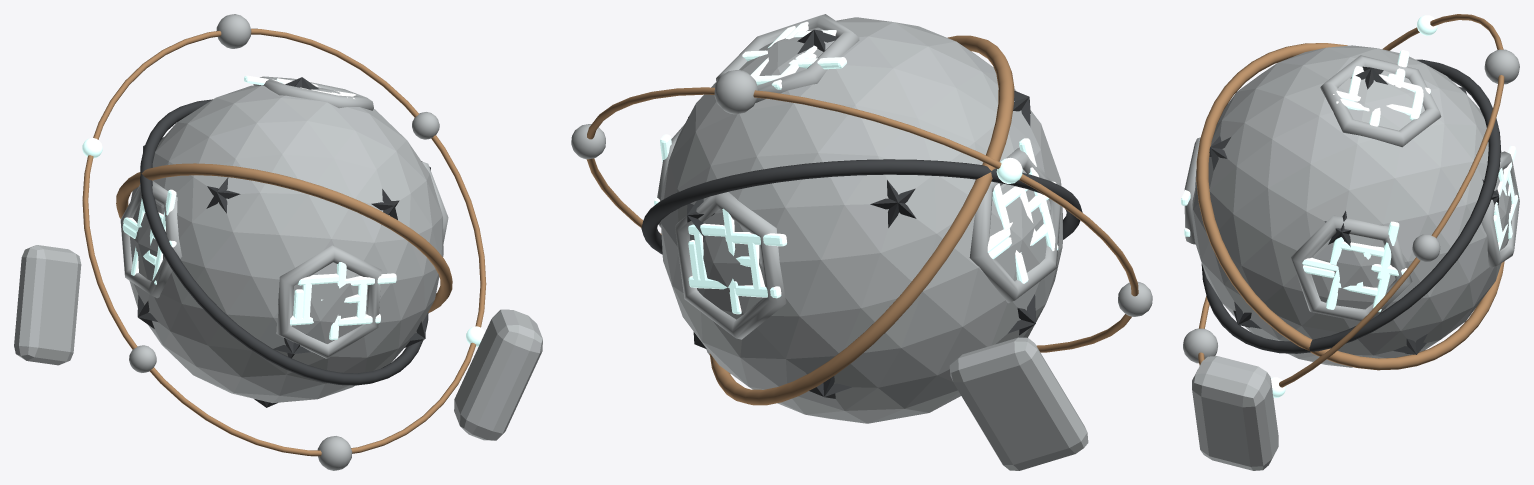
File: paneled-core.glb
3 renders of one model, left to right at view 1: azimuth 30°, elevation 25°; view 2: azimuth 150°, elevation 25°; view 3: azimuth 270°, elevation 25°, orthographic. The views are drawn at different scales.
Parts seen in each view (by area): view 1: Panel_Core, Panel_OrbitRail, Panel_Pod_A, Panel_Pod_B, Panel_StructuralBand_A, Panel_StructuralBand_B, Panel_3_PortFrame, Panel_1_PortFrame, Panel_FrameShell, Panel_4_PortFrame, Panel_Satellite_05, Panel_Satellite_02 (+2 smaller); view 2: Panel_Core, Panel_Pod_B, Panel_StructuralBand_B, Panel_StructuralBand_A, Panel_OrbitRail, Panel_2_PortFrame, Panel_1_PortFrame, Panel_FrameShell, Panel_4_PortFrame, Panel_Satellite_02, Panel_Satellite_04, Panel_Satellite_01 (+1 smaller); view 3: Panel_Core, Panel_Pod_A, Panel_StructuralBand_B, Panel_StructuralBand_A, Panel_0_PortFrame, Panel_4_PortFrame, Panel_OrbitRail, Panel_FrameShell, Panel_2_PortFrame, Panel_Satellite_02, Panel_Satellite_05, Panel_3_PortFrame (+3 smaller).
Boxes of the visible parts, x1,y1,x2,y2 form: Panel_Core: [129, 85, 443, 403]; Panel_OrbitRail: [82, 28, 486, 456]; Panel_Pod_A: [454, 309, 542, 440]; Panel_Pod_B: [14, 245, 81, 365]; Panel_StructuralBand_A: [140, 99, 428, 385]; Panel_StructuralBand_B: [116, 163, 452, 312]; Panel_3_PortFrame: [276, 245, 381, 358]; Panel_1_PortFrame: [120, 180, 182, 298]; Panel_FrameShell: [137, 77, 430, 407]; Panel_4_PortFrame: [253, 76, 373, 110]; Panel_Satellite_05: [317, 436, 352, 470]; Panel_Satellite_02: [216, 14, 251, 48]; Panel_Core: [661, 17, 1062, 423]; Panel_Pod_B: [949, 337, 1088, 470]; Panel_StructuralBand_B: [709, 35, 1014, 405]; Panel_StructuralBand_A: [641, 159, 1082, 254]; Panel_OrbitRail: [586, 87, 1138, 352]; Panel_2_PortFrame: [675, 192, 786, 339]; Panel_1_PortFrame: [969, 147, 1060, 303]; Panel_FrameShell: [687, 29, 1035, 398]; Panel_4_PortFrame: [716, 14, 859, 102]; Panel_Satellite_02: [714, 70, 758, 114]; Panel_Satellite_04: [1118, 281, 1152, 316]; Panel_Satellite_01: [571, 124, 605, 159]; Panel_Core: [1192, 45, 1511, 367]; Panel_Pod_A: [1192, 356, 1278, 470]; Panel_StructuralBand_B: [1196, 43, 1504, 370]; Panel_StructuralBand_A: [1201, 59, 1500, 353]; Panel_0_PortFrame: [1291, 215, 1412, 321]; Panel_4_PortFrame: [1320, 55, 1441, 147]; Panel_OrbitRail: [1198, 14, 1504, 387]; Panel_FrameShell: [1209, 66, 1499, 354]; Panel_2_PortFrame: [1481, 151, 1519, 267]; Panel_Satellite_02: [1484, 49, 1519, 84]; Panel_Satellite_05: [1183, 328, 1217, 363]; Panel_3_PortFrame: [1184, 137, 1200, 244].
Bounding box in the file's own units: 3.51 × 2.79 × 2.42.
